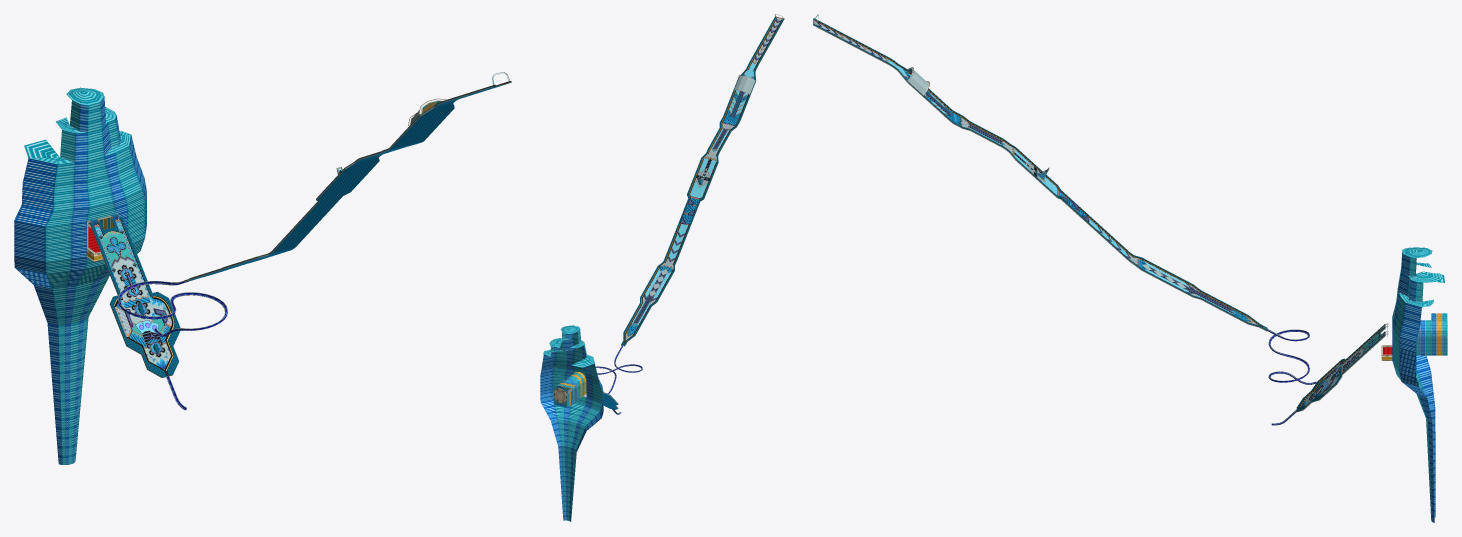
Rendered from Bingo_highway_4.obj.
The picture shows the model from 3 angles, left to right: view 1: azimuth 30°, elevation 25°; view 2: azimuth 150°, elevation 25°; view 3: azimuth 270°, elevation 25°; orthographic projection. The views are drawn at different scales.
Visible parts, largest first — view 1: obj2, Object_2, obj1; view 2: obj2, Object_2; view 3: obj2, Object_2.
Part boxes in pixels (box(x1,y1,x2,y2)): obj2: box(14, 72, 511, 464); Object_2: box(91, 98, 454, 371); obj1: box(118, 281, 227, 410); obj2: box(540, 14, 784, 521); Object_2: box(625, 18, 781, 340); obj2: box(813, 14, 1447, 522); Object_2: box(816, 21, 1375, 406).
Bounding box in the file's own units: 987 × 5085 × 5781.
